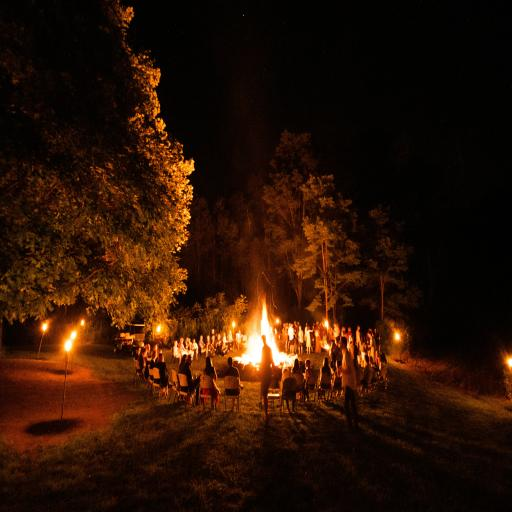campfire: (238, 306, 289, 382)
